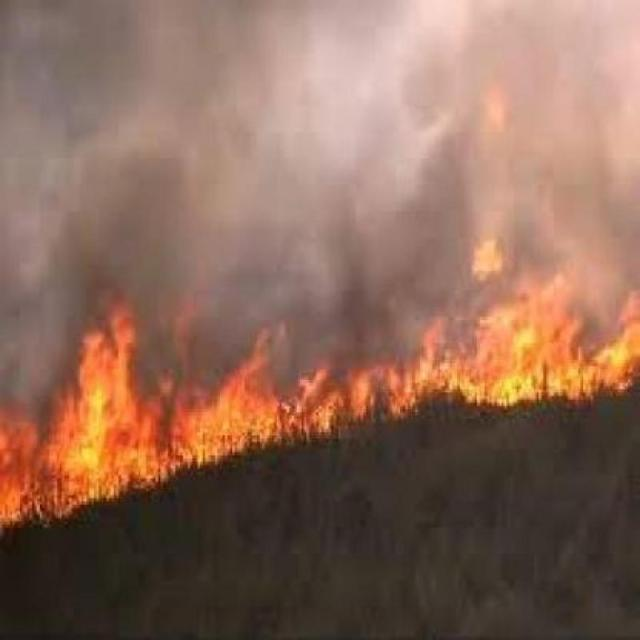Fire: (0, 342, 640, 492)
Smoke: (0, 39, 640, 274)
